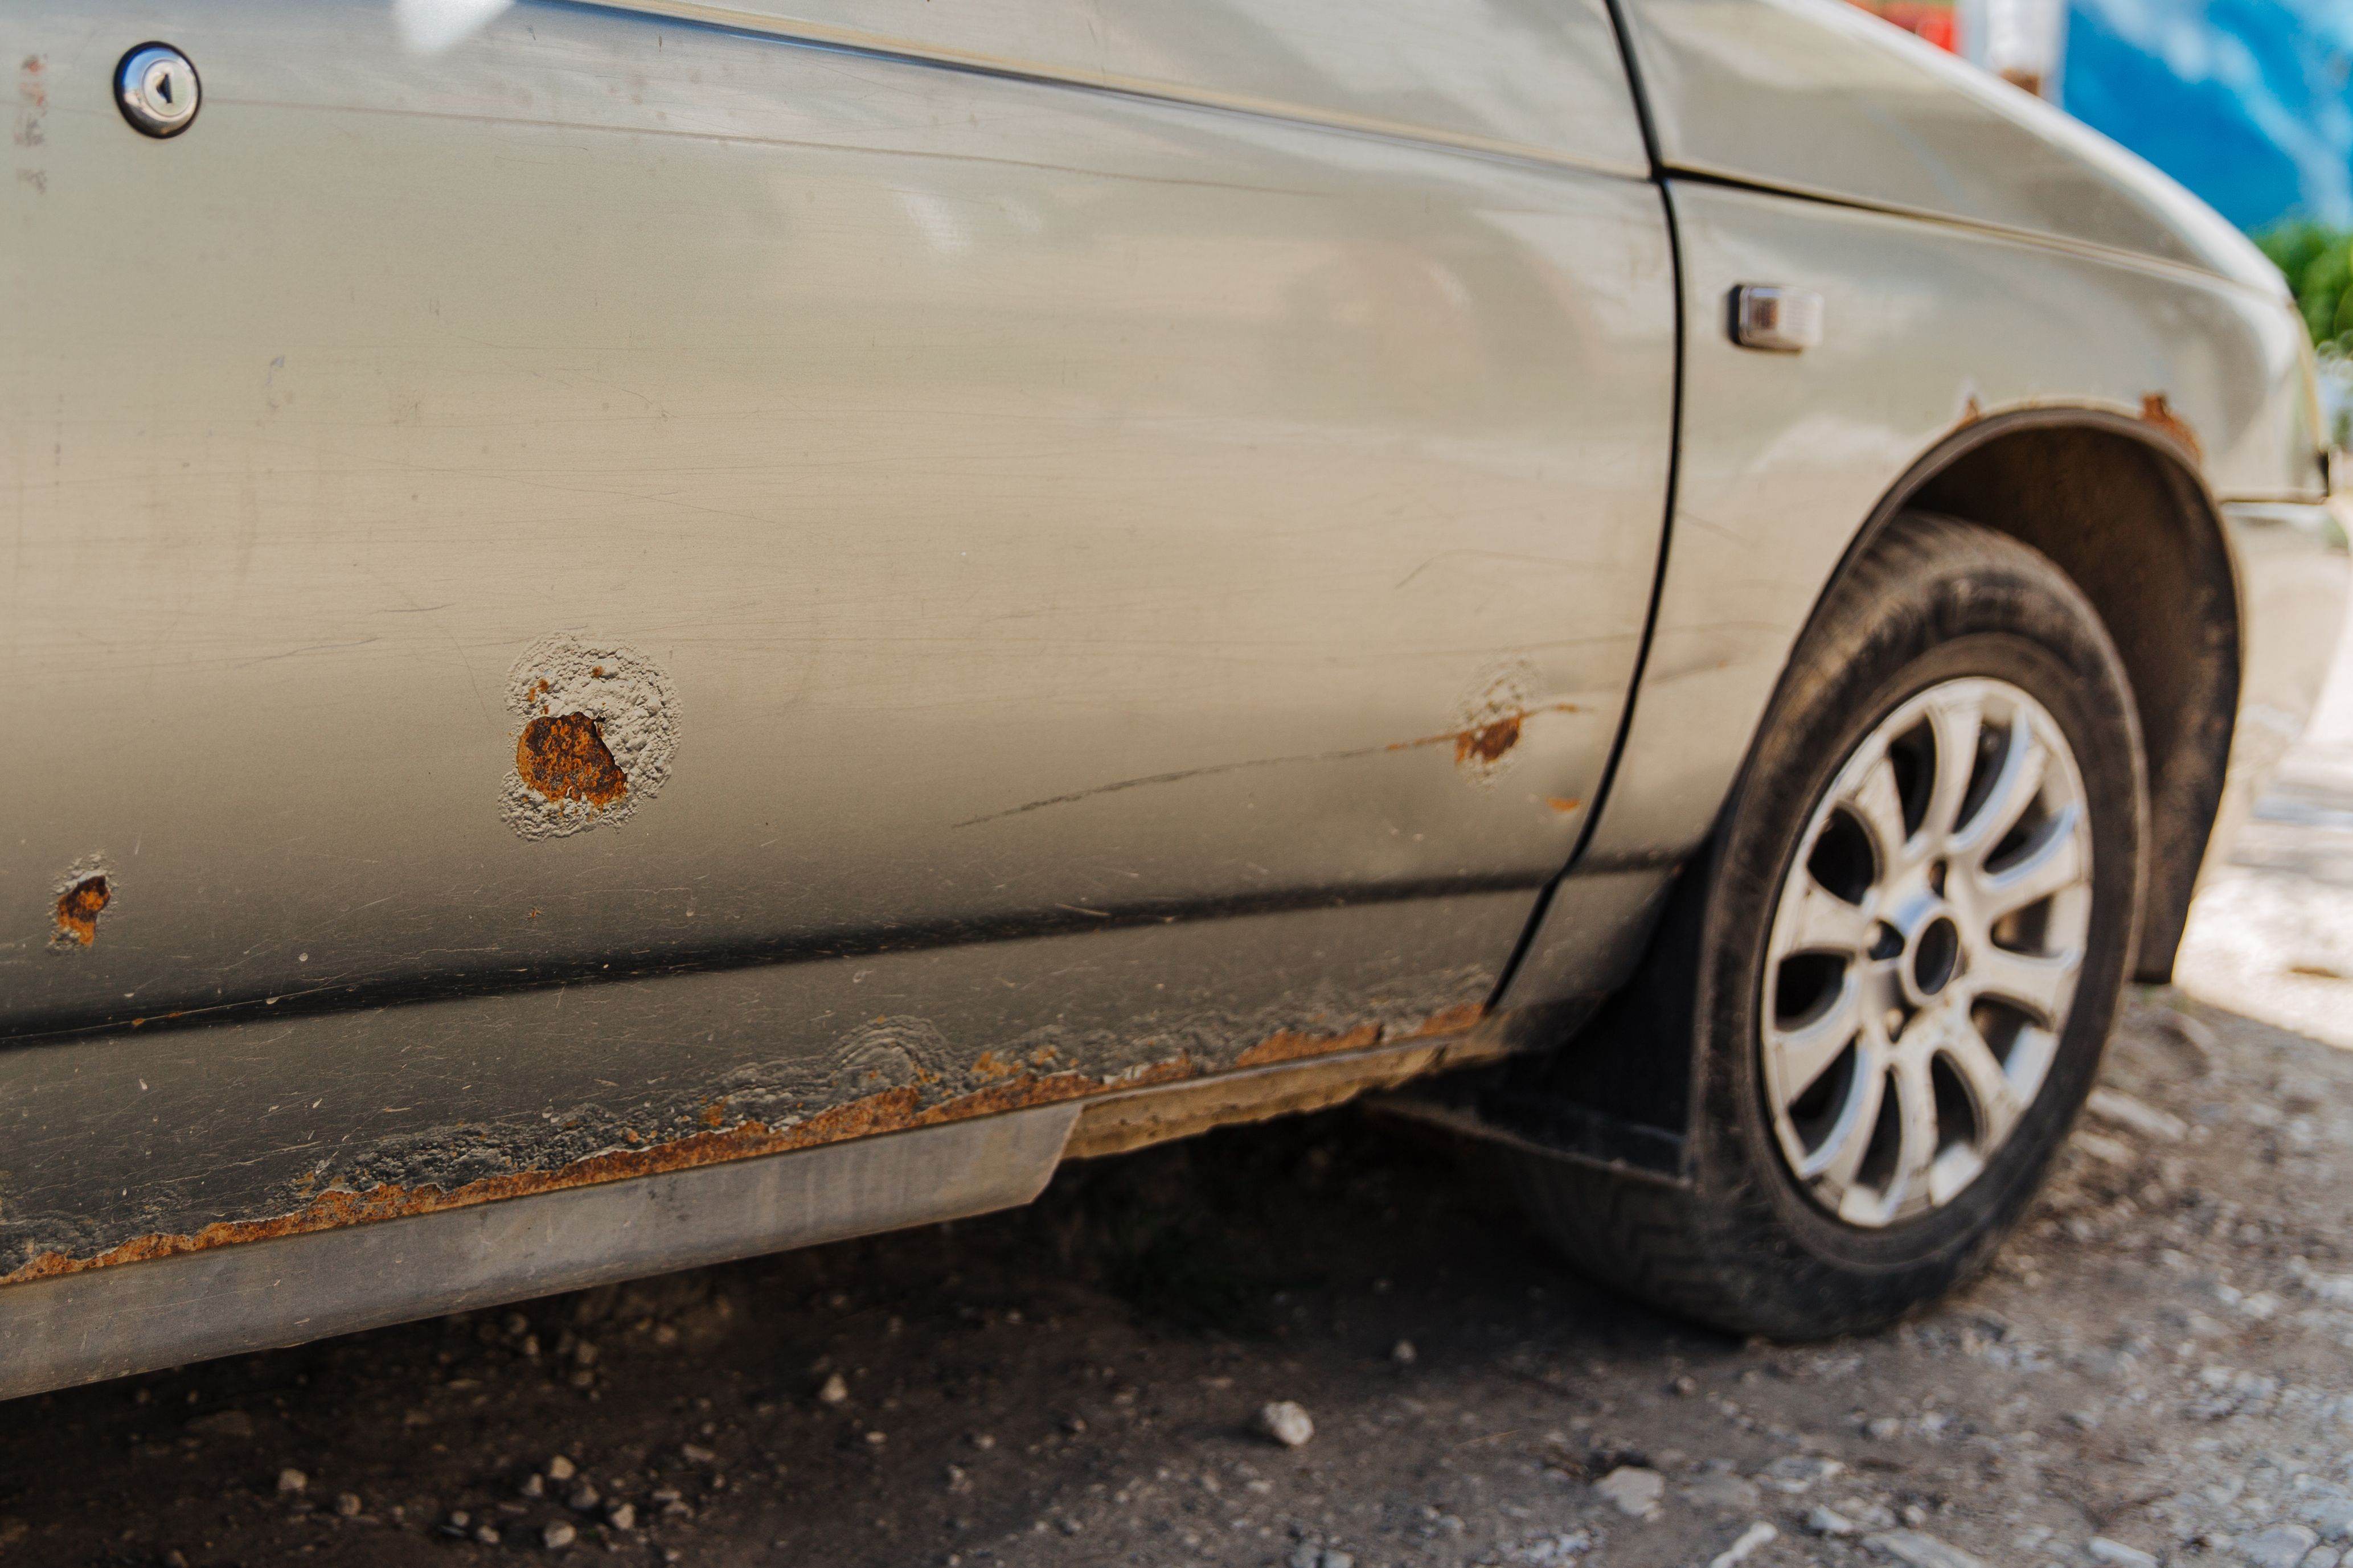rust: (289, 978, 1463, 1129), (478, 681, 681, 842), (1426, 663, 1543, 803), (31, 835, 136, 975)
